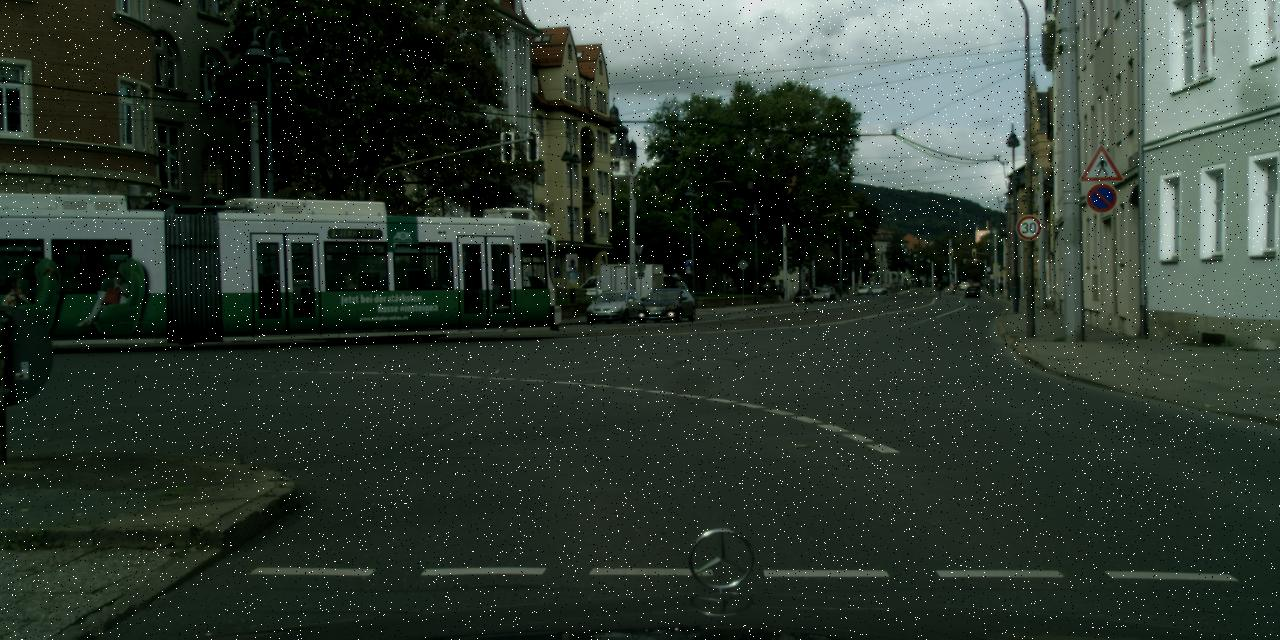ped: (936, 280, 942, 298)
